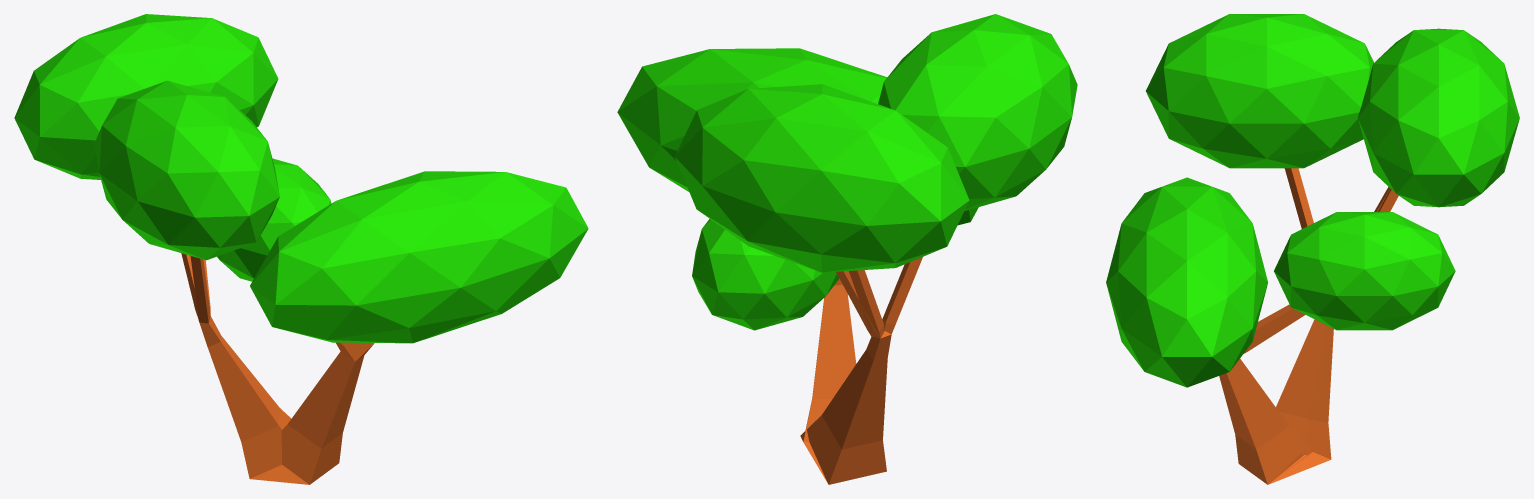
File: drzewo2.fbx
3 views of the same model, side by side, from view 1: azimuth 30°, elevation 25°; view 2: azimuth 150°, elevation 25°; view 3: azimuth 270°, elevation 25° (orthographic). The views are drawn at different scales.
Visible parts, largest first — view 1: Icosphere, Icosphere.002, Icosphere.003, Cube, Icosphere.001; view 2: Icosphere.003, Icosphere.002, Cube, Icosphere, Icosphere.001; view 3: Icosphere.002, Icosphere, Icosphere.003, Icosphere.001, Cube.
Part boxes in pixels (bbox=[...]): Icosphere: bbox=[250, 171, 588, 343]; Icosphere.002: bbox=[94, 80, 279, 260]; Icosphere.003: bbox=[14, 14, 278, 179]; Cube: bbox=[181, 253, 374, 484]; Icosphere.001: bbox=[217, 158, 331, 281]; Icosphere.003: bbox=[675, 84, 969, 272]; Icosphere.002: bbox=[878, 14, 1077, 210]; Cube: bbox=[800, 257, 922, 484]; Icosphere: bbox=[617, 48, 978, 225]; Icosphere.001: bbox=[692, 219, 839, 330]; Icosphere.002: bbox=[1146, 14, 1373, 168]; Icosphere: bbox=[1106, 177, 1267, 387]; Icosphere.003: bbox=[1358, 28, 1519, 207]; Icosphere.001: bbox=[1274, 212, 1455, 330]; Cube: bbox=[1219, 168, 1398, 484].
Size of the model in its own units: 407 by 377 by 357.
